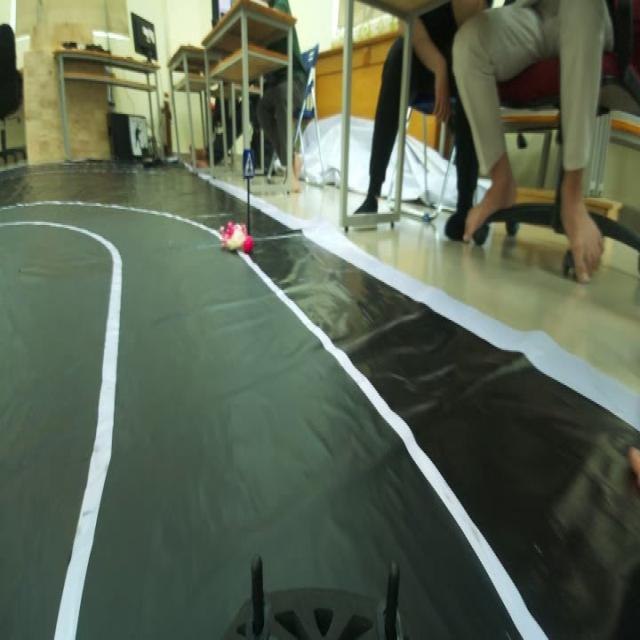crosswalk: (234, 143, 261, 190)
